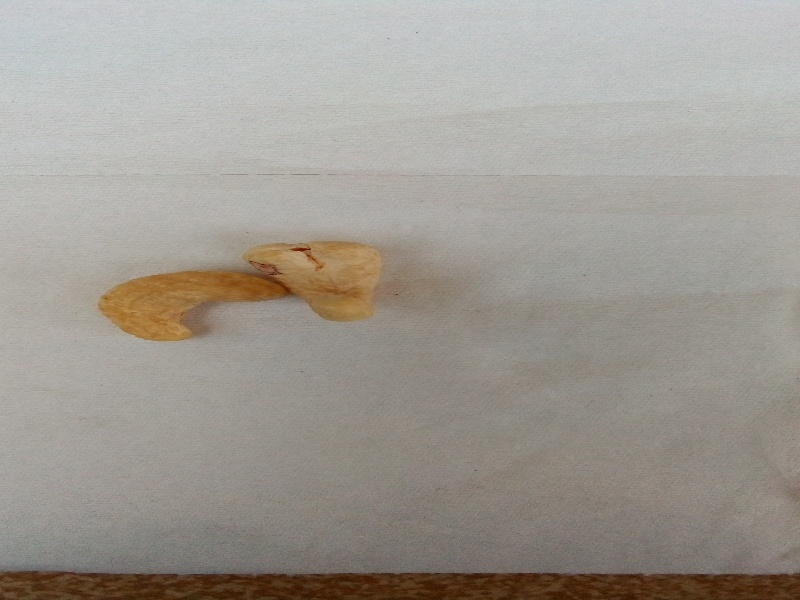cashew: (75, 230, 400, 351)
